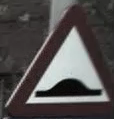Speed Breaker ahead: (8, 7, 107, 110)
